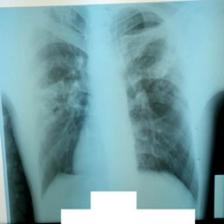tuberculosis: (20, 1, 206, 210)
